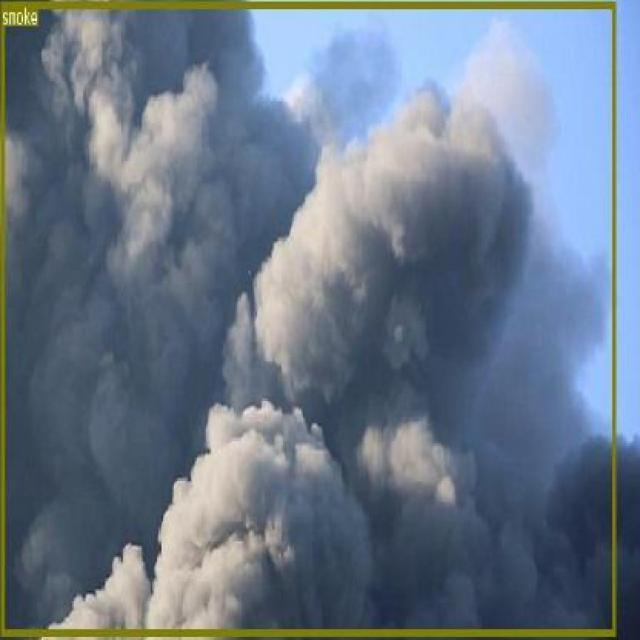Smoke: (0, 0, 615, 634)
